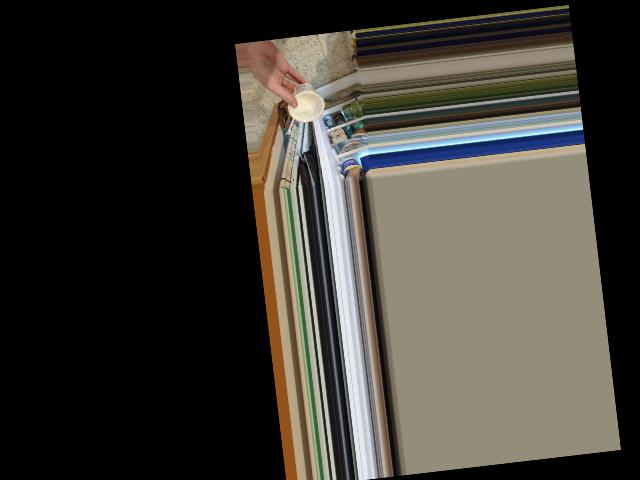cotage: (283, 79, 321, 124)
